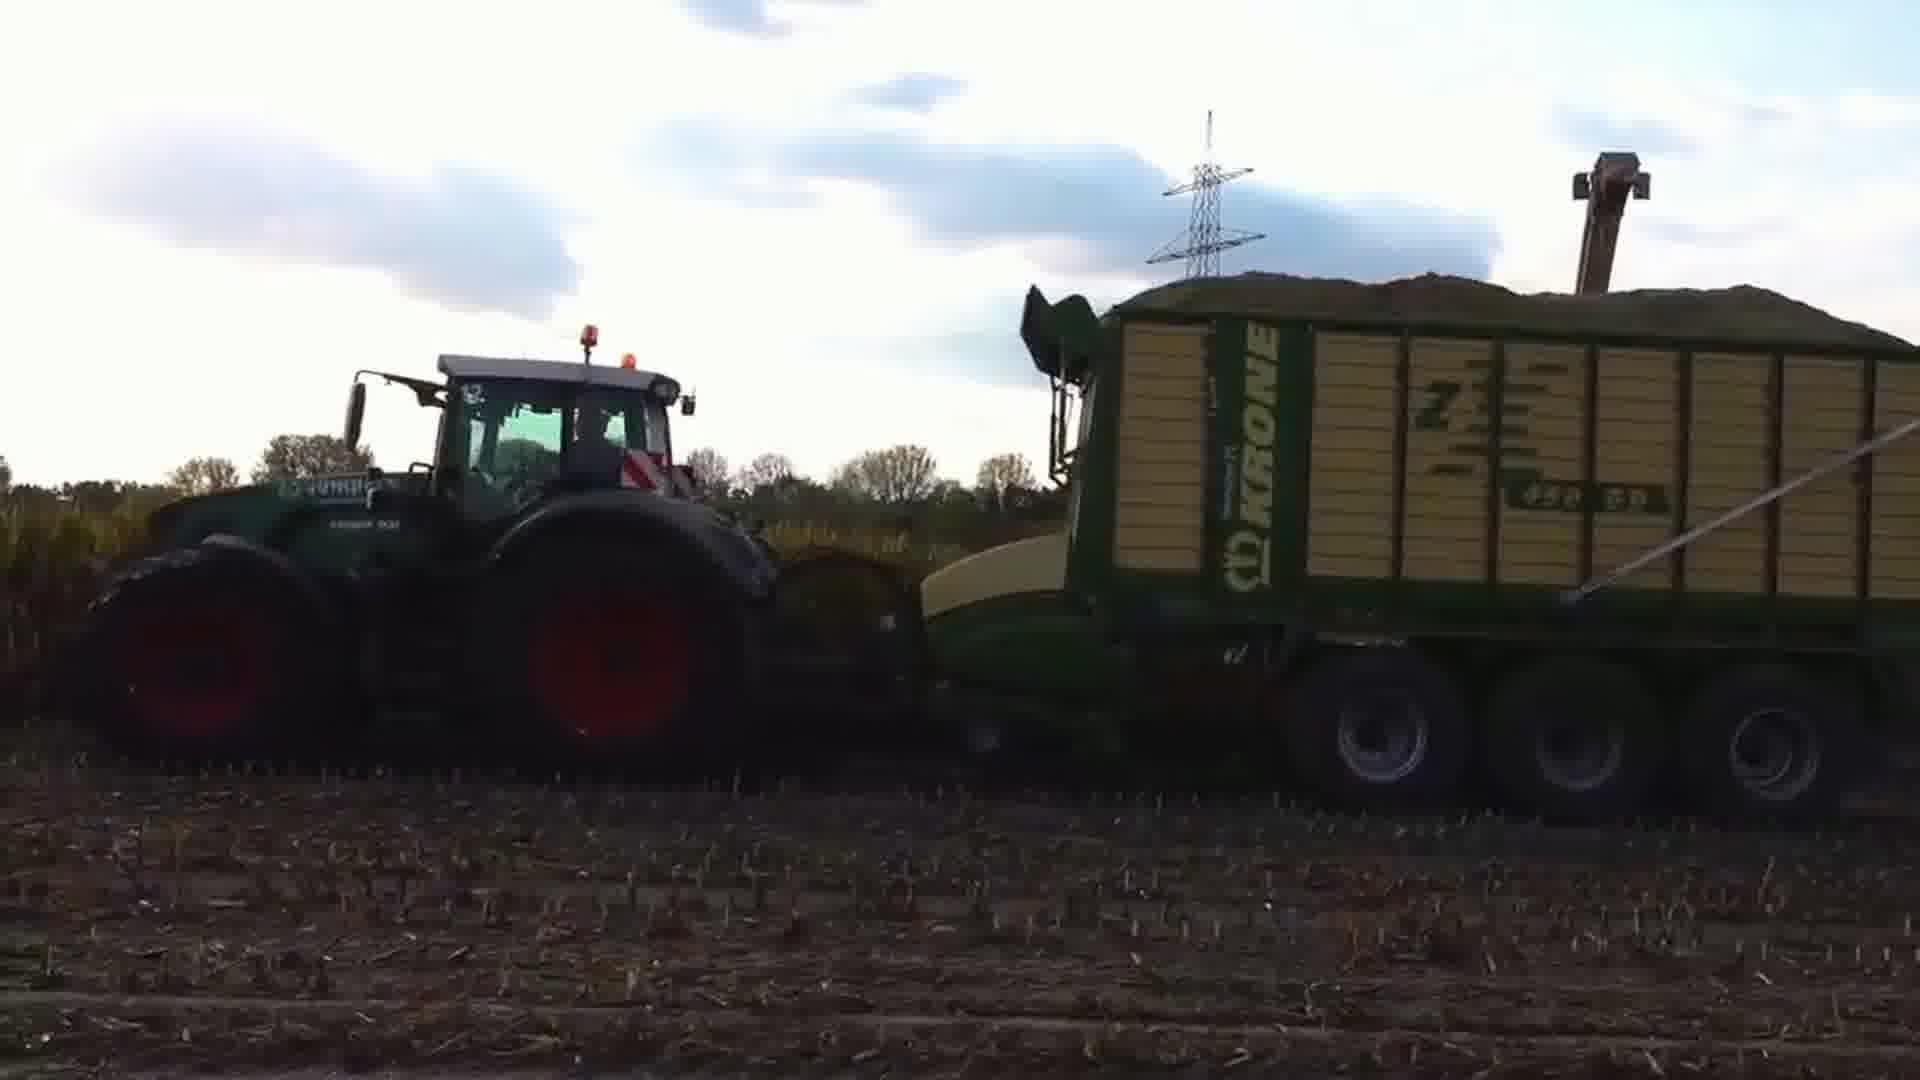tractor: (55, 320, 839, 786)
trailer: (891, 245, 1920, 840)
